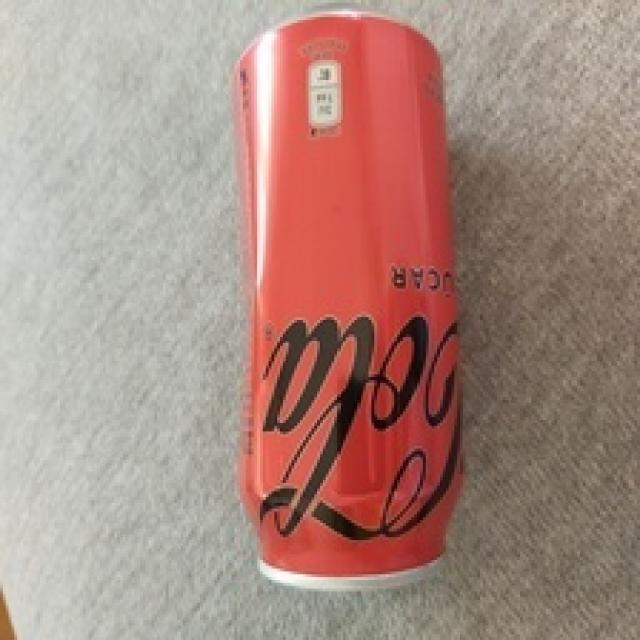recyclable: (234, 10, 466, 590)
